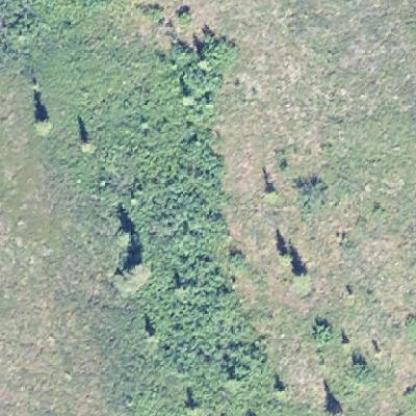tree-top: (118, 256, 153, 285), (116, 218, 140, 248), (289, 263, 313, 285), (30, 111, 52, 134), (78, 134, 96, 153), (263, 186, 281, 203), (183, 398, 201, 414), (324, 402, 346, 415)
